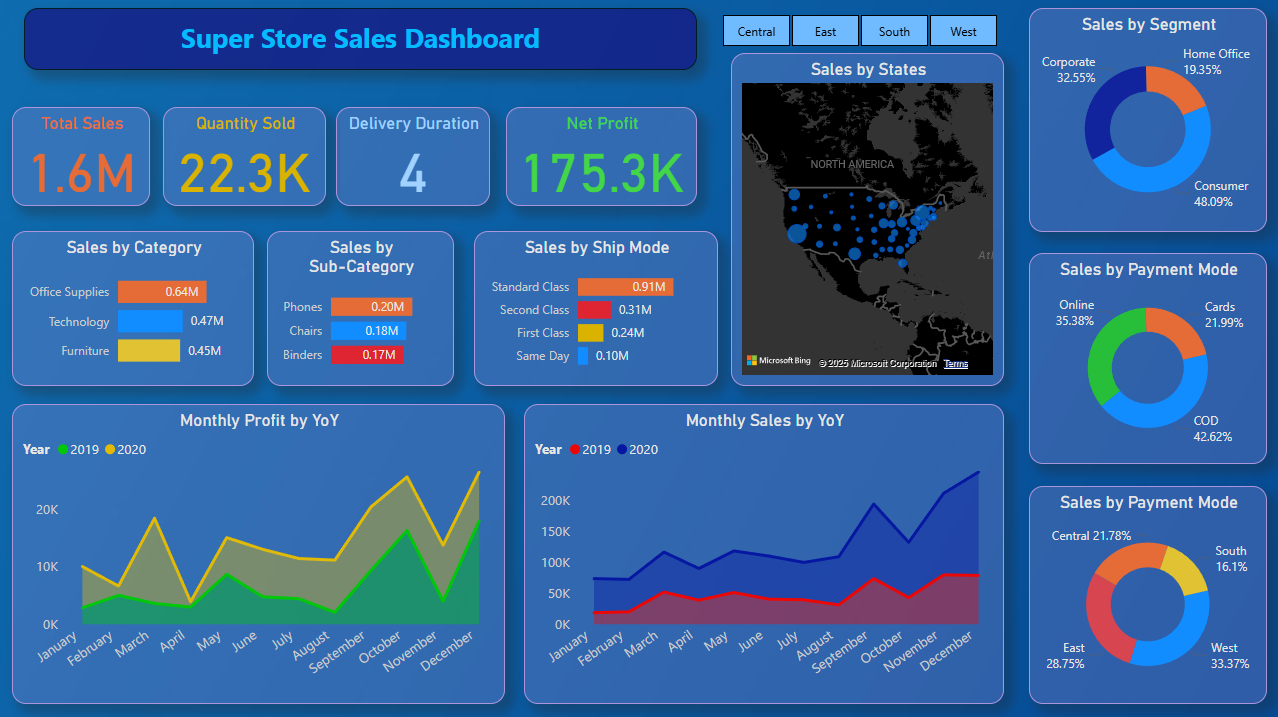

What the dashboard file says about the page in this screenshot:
{"tool":"powerbi","page":{"name":"Page 1","canvas":[1280,720],"ordinal":0},"visuals":[{"type":"clusteredBarChart","title":"Sales by Category","fields":{"Category":["Sheet1.Category"],"Y":["Sum(Sheet1.Sales)"]},"box":[12.6,232.5,242.2,154.7],"z":0},{"type":"clusteredBarChart","title":"Sales by Sub-Category","fields":{"Y":["Sum(Sheet1.Sales)"],"Category":["Sheet1.Sub-Category"]},"box":[268.4,232.5,186.7,154.7],"z":1000},{"type":"clusteredBarChart","title":"Sales by Ship Mode","fields":{"Y":["Sum(Sheet1.Sales)"],"Category":["Sheet1.Ship Mode"]},"box":[474.7,232.5,244.1,154.7],"z":2000},{"type":"stackedAreaChart","title":"Monthly Profit by YoY","fields":{"Category":["Sheet1.Order Date.Variation.Date Hierarchy.Month","Sheet1.Order Date.Variation.Date Hierarchy.Day"],"Series":["Sheet1.Order Date.Variation.Date Hierarchy.Year"],"Y":["Sum(Sheet1.Profit)"]},"box":[12.6,404.9,493.8,299.9],"z":3000},{"type":"stackedAreaChart","title":"Monthly Sales by YoY","fields":{"Y":["Sum(Sheet1.Sales)"],"Category":["Sheet1.Order Date.Variation.Date Hierarchy.Month","Sheet1.Order Date.Variation.Date Hierarchy.Day"],"Series":["Sheet1.Order Date.Variation.Date Hierarchy.Year"]},"box":[525.2,404.9,479.4,299.9],"z":4000},{"type":"map","title":"Sales by States","fields":{"Category":["Sheet1.State"],"Size":["Sum(Sheet1.Sales)"]},"box":[731.7,53.9,272.9,333.1],"z":5000},{"type":"donutChart","title":"Sales by Segment","fields":{"Category":["Sheet1.Segment"],"Y":["Sum(Sheet1.Sales)"]},"box":[1029.7,9,237.9,223.5],"z":6000},{"type":"donutChart","title":"Sales by Payment Mode","fields":{"Category":["Sheet1.Payment Mode"],"Y":["Sum(Sheet1.Sales)"]},"box":[1029.7,254.1,237.9,211],"z":7000},{"type":"textbox","box":[25.3,8.8,673.1,62.2],"z":8000},{"type":"card","title":"Total Sales","fields":{"Values":["Sum(Sheet1.Sales)"]},"box":[12.6,108,138.1,99.2],"z":9000},{"type":"card","title":"Quantity Sold","fields":{"Values":["Sum(Sheet1.Quantity)"]},"box":[164.4,108,162.4,99.2],"z":10000},{"type":"card","title":"Net Profit","fields":{"Values":["Sum(Sheet1.Profit)"]},"box":[506.7,108,191.6,99.2],"z":11000},{"type":"card","title":"Delivery Duration","fields":{"Values":["Avg(Sheet1.Del_Time)"]},"box":[336.5,108,154.7,99.2],"z":12000},{"type":"slicer","fields":{"Values":["Sheet1.Region"]},"box":[698.5,9,323.2,44.9],"z":13000},{"type":"donutChart","title":"Sales by Payment Mode","fields":{"Y":["Sum(Sheet1.Sales)"],"Category":["Sheet1.Region"]},"box":[1029.7,487.5,237.9,217.3],"z":14000}]}

Visuals, with their boxes in screenshot pixels (x1, y1, x2, y2), scaled from the page's 1280x720 canvas onto the 1278x717 screenshot:
"Sales by Category" clusteredBarChart: rect(13, 232, 254, 386)
"Sales by Sub-Category" clusteredBarChart: rect(268, 232, 454, 386)
"Sales by Ship Mode" clusteredBarChart: rect(474, 232, 718, 386)
"Monthly Profit by YoY" stackedAreaChart: rect(13, 403, 506, 702)
"Monthly Sales by YoY" stackedAreaChart: rect(524, 403, 1003, 702)
"Sales by States" map: rect(731, 54, 1003, 385)
"Sales by Segment" donutChart: rect(1028, 9, 1266, 232)
"Sales by Payment Mode" donutChart: rect(1028, 253, 1266, 463)
textbox: rect(25, 9, 697, 71)
"Total Sales" card: rect(13, 108, 150, 206)
"Quantity Sold" card: rect(164, 108, 326, 206)
"Net Profit" card: rect(506, 108, 697, 206)
"Delivery Duration" card: rect(336, 108, 490, 206)
slicer - Sheet1.Region: rect(697, 9, 1020, 54)
"Sales by Payment Mode" donutChart: rect(1028, 485, 1266, 702)
